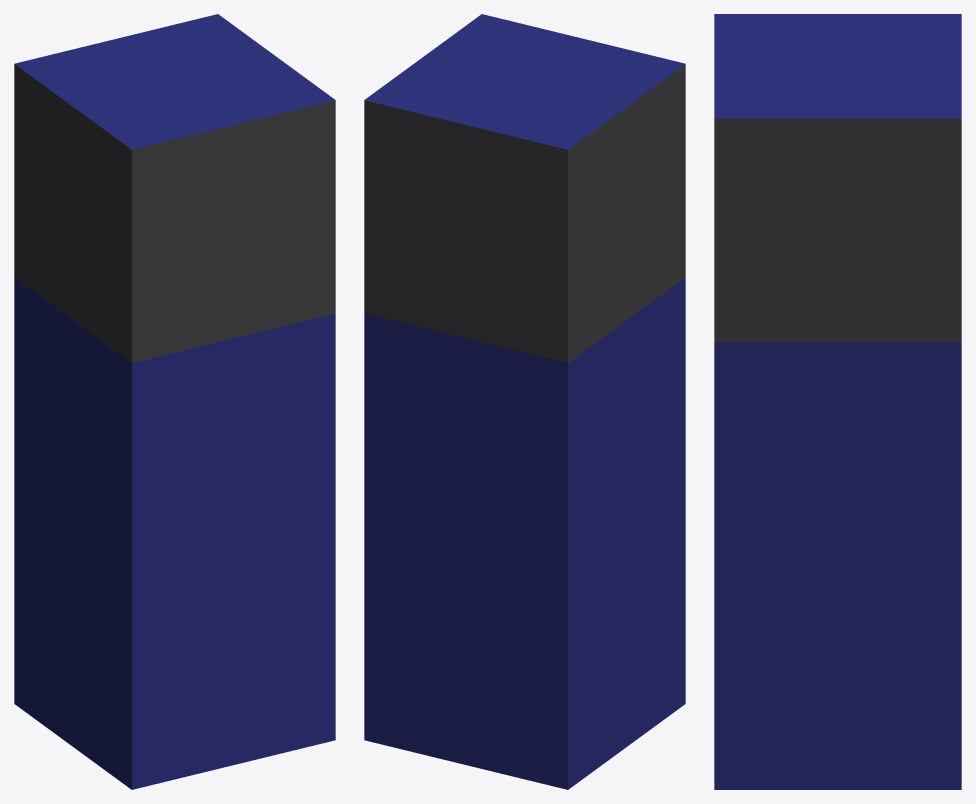
The model's file is steve_right_leg.obj.
The picture shows the model from 3 angles, left to right: view 1: azimuth 30°, elevation 25°; view 2: azimuth 150°, elevation 25°; view 3: azimuth 270°, elevation 25°; orthographic projection. The views are drawn at different scales.
Visible parts, largest first — view 1: steve_right_leg; view 2: steve_right_leg; view 3: steve_right_leg.
Part boxes in pixels (bbox=[...]): steve_right_leg: bbox=[14, 14, 335, 789]; steve_right_leg: bbox=[364, 14, 685, 789]; steve_right_leg: bbox=[714, 14, 961, 789].
Size of the model in its own units: 4 by 12 by 4.
Materials: 1 (1 with a texture image).
